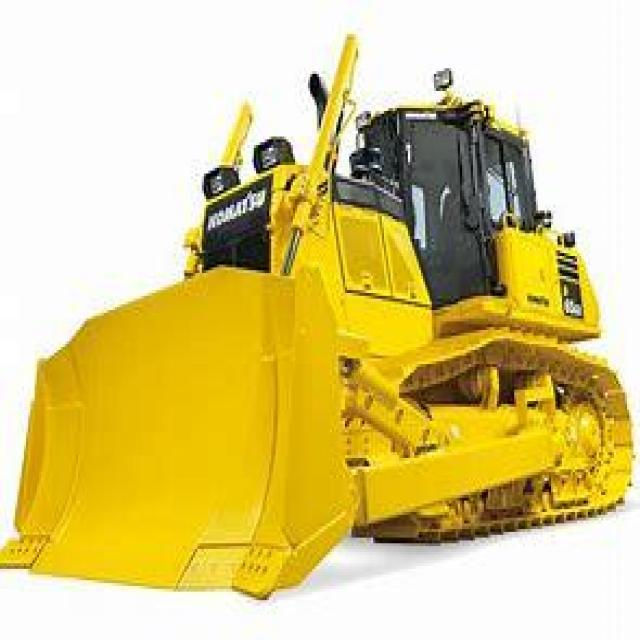Bulldozer: (0, 28, 636, 614)
